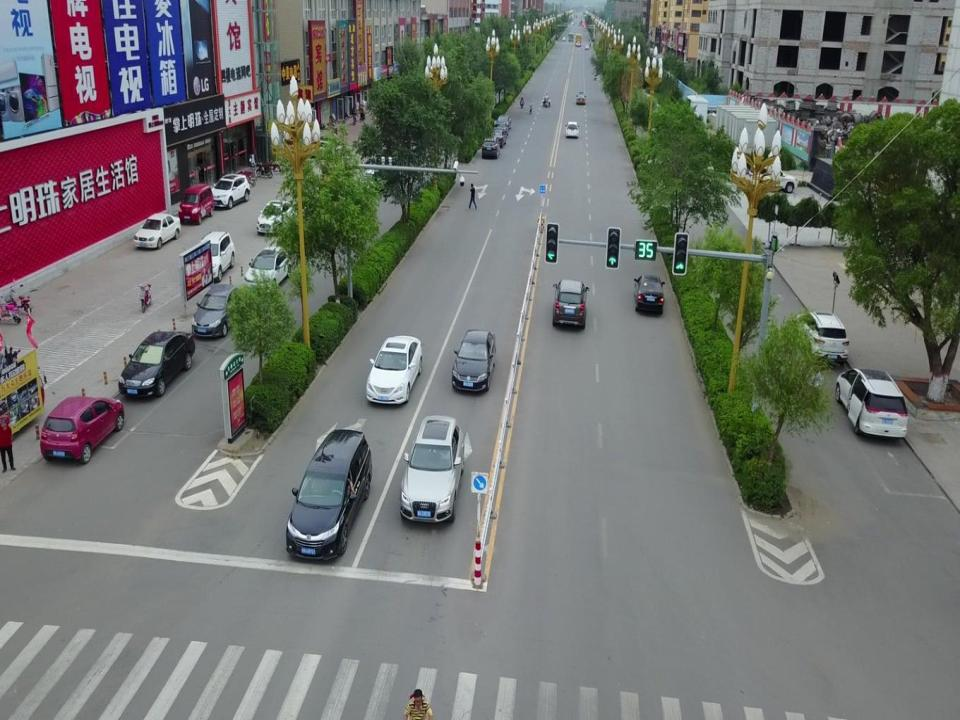bus: (572, 35, 580, 48)
car: (286, 429, 371, 561), (399, 416, 464, 526), (834, 368, 910, 441), (41, 398, 123, 465), (116, 332, 195, 399), (364, 335, 422, 406), (793, 311, 850, 366), (192, 284, 242, 339), (454, 332, 496, 394), (243, 248, 295, 294), (552, 278, 586, 330), (134, 213, 180, 248), (376, 138, 423, 168), (257, 199, 297, 234), (632, 275, 666, 314), (212, 173, 250, 207), (356, 158, 388, 198), (752, 166, 800, 191), (483, 131, 500, 160), (492, 114, 512, 130), (566, 120, 578, 140), (494, 126, 505, 147), (575, 90, 588, 102), (584, 42, 594, 50)
van: (202, 231, 235, 283), (176, 184, 212, 224)
